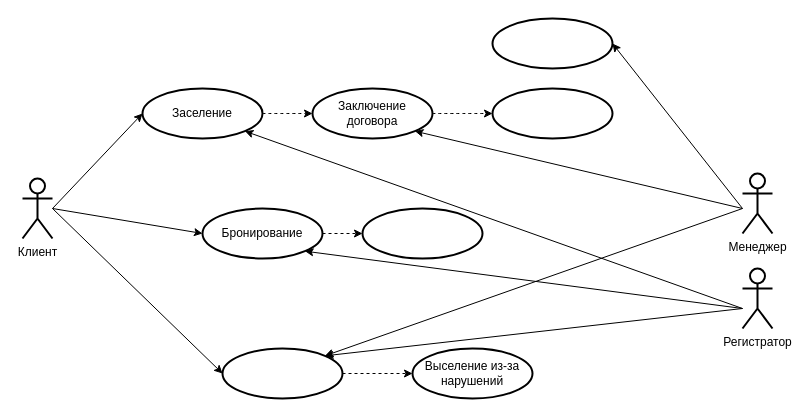
This 809x416 diagram has some shape labels left out. The shapes that lost their labels are listed below. From the top down, each one's centre as x and y in pixels, then its label:
the point at 552,43: Установка цен
the point at 552,113: Оплата
the point at 422,233: Предоплата
the point at 282,373: Выселение
